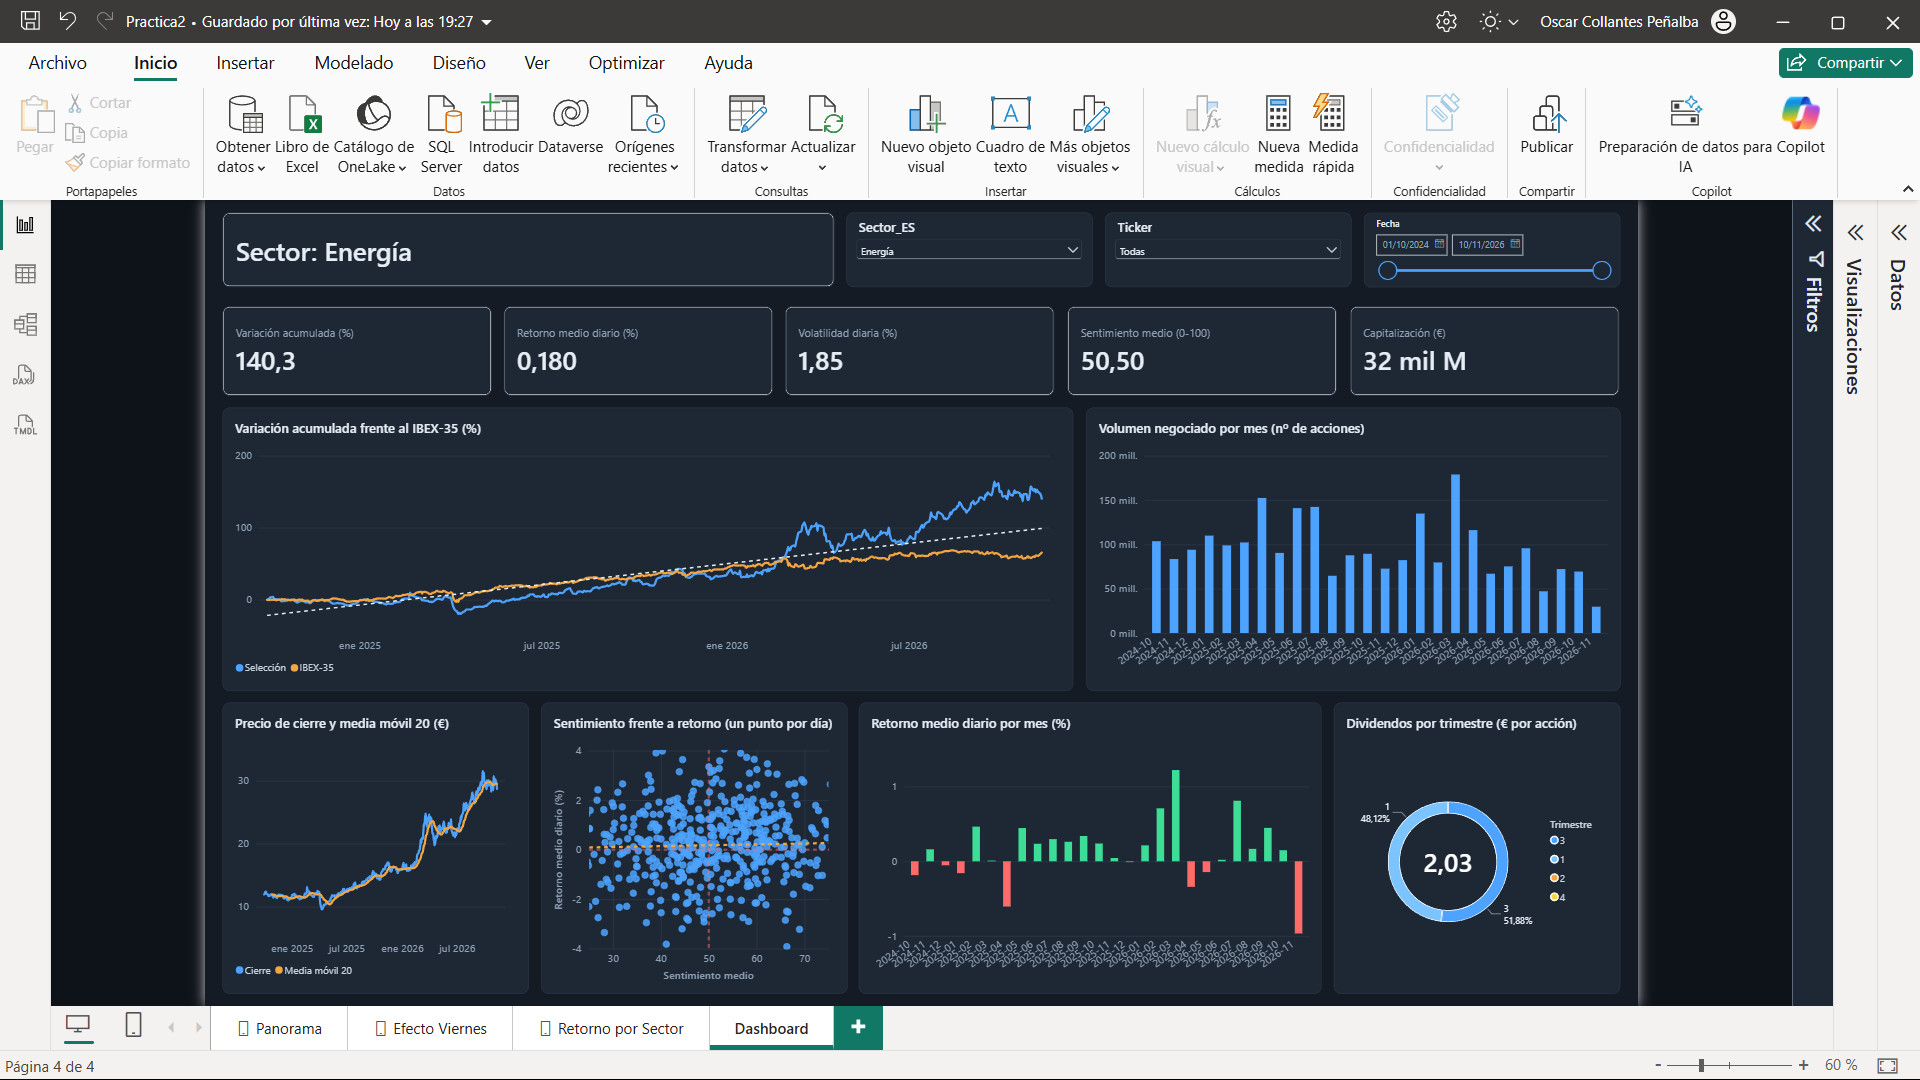

The dashboard page shown, as its layout file describes it:
{"tool":"powerbi","page":{"name":"Dashboard","canvas":[1920,1080],"ordinal":3},"visuals":[{"type":"slicer","fields":{"Values":["Empresa.Sector_ES"]},"box":[753.5,31.4,280.8,68],"z":0},{"type":"slicer","fields":{"Values":["Empresa.Ticker"]},"box":[1055.2,26.2,280.8,80.2],"z":1000},{"type":"slicer","fields":{"Values":["Fecha.Fecha"]},"box":[1360.5,19.2,280.8,95.9],"z":2000},{"type":"cardVisual","fields":{"Data":["Hechos.Variacion Acumulada"]},"box":[36.6,115.1,218,174.4],"z":3000},{"type":"cardVisual","fields":{"Data":["Hechos.Retorno Medio Diario"]},"box":[375,115.1,218,174.4],"z":4000},{"type":"cardVisual","fields":{"Data":["Hechos.Volatilidad Diaria"]},"box":[741.3,115.1,218,174.4],"z":5000},{"type":"cardVisual","fields":{"Data":["Hechos.Sentimiento Medio"]},"box":[1088.4,115.1,218,174.4],"z":6000},{"type":"cardVisual","fields":{"Data":["Hechos.Capitalizacion Total"]},"box":[1447.7,115.1,218,174.4],"z":7000},{"type":"lineChart","fields":{"Category":["Fecha.Fecha"],"Y":["Hechos.Var Acum Seleccion","Hechos.Var Acum IBEX"]},"box":[43.6,314,1058.7,376.7],"z":8000},{"type":"clusteredColumnChart","fields":{"Category":["Fecha.AnioMes"],"Y":["Sum(Hechos.Volume)"]},"box":[1133.7,314,736,376.7],"z":9000},{"type":"lineChart","fields":{"Category":["Fecha.Fecha"],"Y":["Avg(Hechos.Close)","Avg(Hechos.Media_Movil_20)"]},"box":[66.3,711.6,395.9,322.7],"z":10000},{"type":"scatterChart","fields":{"Category":["Fecha.Fecha"],"X":["Hechos.Sentimiento Medio"],"Y":["Hechos.Retorno Medio Diario"]},"box":[462.2,711.6,444.8,322.7],"z":11000},{"type":"clusteredColumnChart","fields":{"Category":["Fecha.AnioMes"],"Y":["Hechos.Retorno Medio Diario"]},"box":[907,711.6,610.5,322.7],"z":12000},{"type":"donutChart","fields":{"Category":["Fecha.Trimestre"],"Y":["Sum(Hechos.Dividends)"]},"box":[1517.4,711.6,385.5,322.7],"z":13000},{"type":"cardVisual","fields":{"Data":["Hechos.Titulo Dashboard"]},"box":[66.3,19.2,556.4,75],"z":13001}]}

Visuals, with their boxes on the page's 1920x1080 design canvas (x1, y1, x2, y2). These are canvas units, not pixel positions in the 1920x1080 screenshot, which may show the page scaled, cropped or inside an application window:
slicer - Empresa.Sector_ES: <bbox>754, 31, 1034, 99</bbox>
slicer - Empresa.Ticker: <bbox>1055, 26, 1336, 106</bbox>
slicer - Fecha.Fecha: <bbox>1360, 19, 1641, 115</bbox>
cardVisual - Hechos.Variacion Acumulada: <bbox>37, 115, 255, 290</bbox>
cardVisual - Hechos.Retorno Medio Diario: <bbox>375, 115, 593, 290</bbox>
cardVisual - Hechos.Volatilidad Diaria: <bbox>741, 115, 959, 290</bbox>
cardVisual - Hechos.Sentimiento Medio: <bbox>1088, 115, 1306, 290</bbox>
cardVisual - Hechos.Capitalizacion Total: <bbox>1448, 115, 1666, 290</bbox>
lineChart - Fecha.Fecha x Hechos.Var Acum Seleccion: <bbox>44, 314, 1102, 691</bbox>
clusteredColumnChart - Fecha.AnioMes x Sum(Hechos.Volume): <bbox>1134, 314, 1870, 691</bbox>
lineChart - Fecha.Fecha x Avg(Hechos.Close): <bbox>66, 712, 462, 1034</bbox>
scatterChart - Fecha.Fecha x Hechos.Sentimiento Medio: <bbox>462, 712, 907, 1034</bbox>
clusteredColumnChart - Fecha.AnioMes x Hechos.Retorno Medio Diario: <bbox>907, 712, 1518, 1034</bbox>
donutChart - Fecha.Trimestre x Sum(Hechos.Dividends): <bbox>1517, 712, 1903, 1034</bbox>
cardVisual - Hechos.Titulo Dashboard: <bbox>66, 19, 623, 94</bbox>
